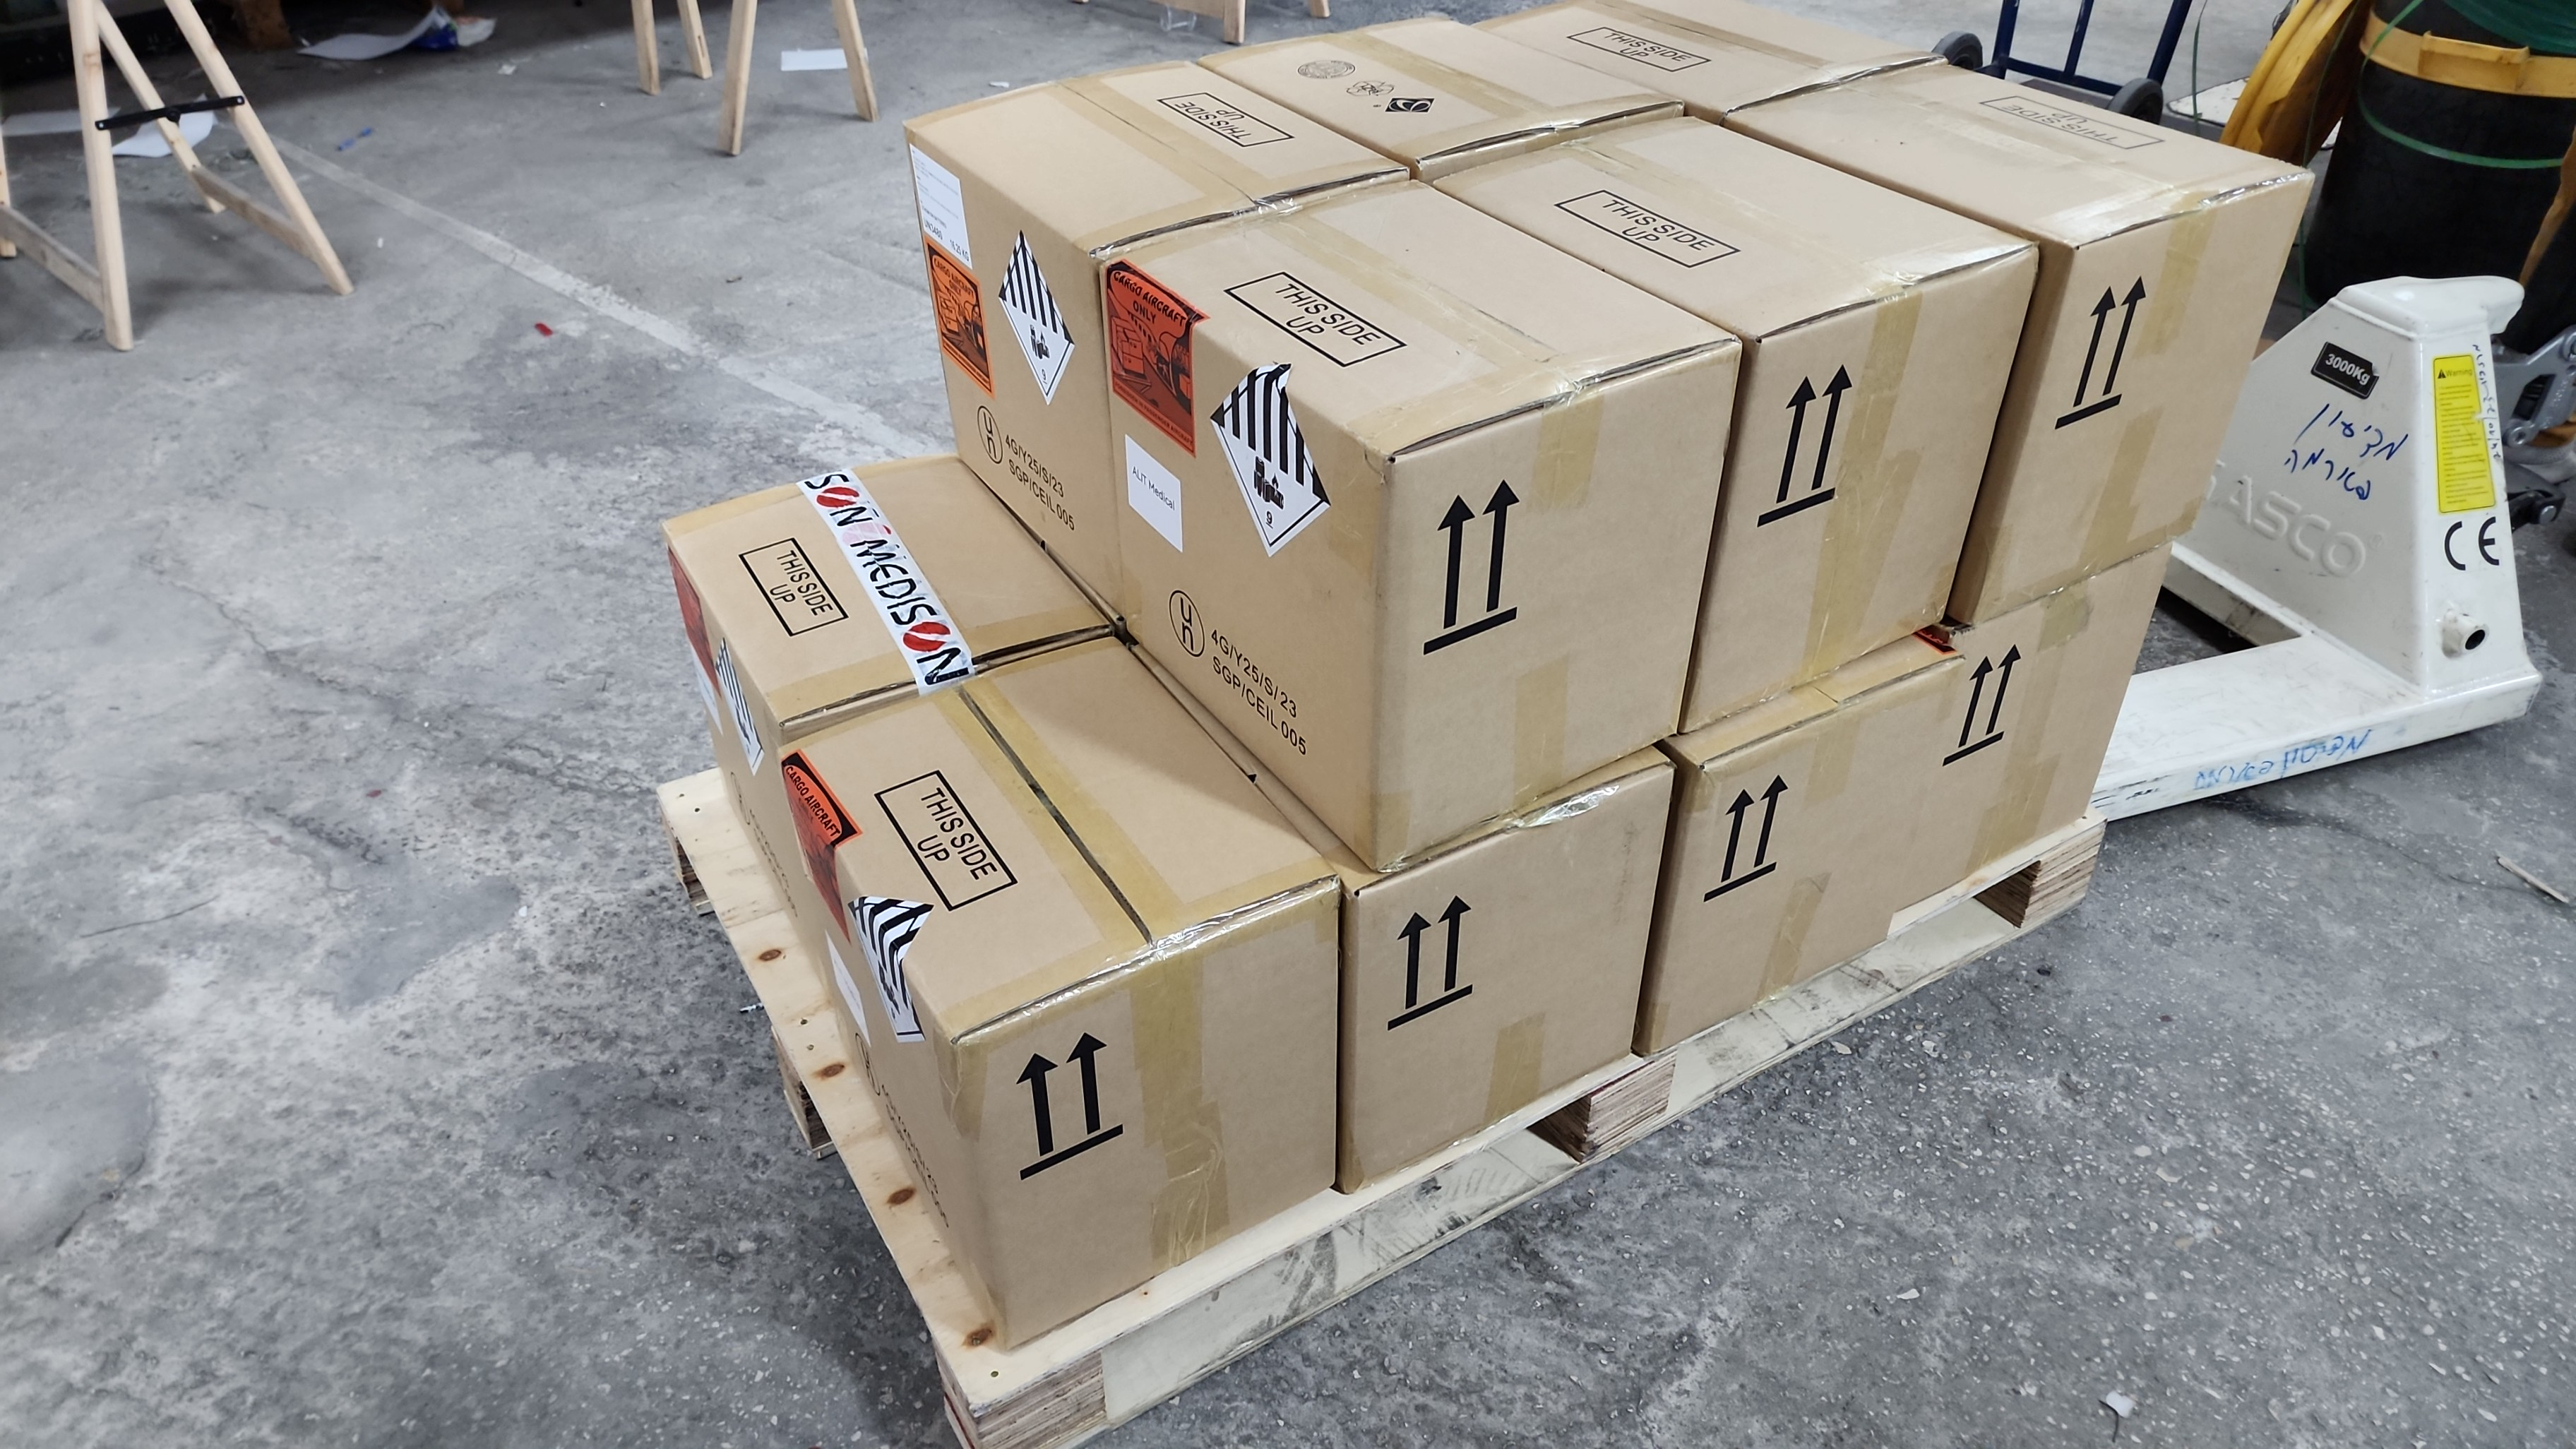box: (1127, 207, 1702, 847), (787, 672, 1315, 1329), (1713, 248, 2052, 725), (1369, 809, 1697, 1242), (920, 74, 1226, 515), (1966, 182, 2266, 628), (662, 472, 1069, 734), (1665, 704, 1950, 1040), (1937, 598, 2155, 881), (1228, 27, 1668, 147)
